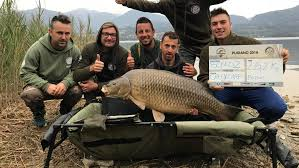carp: (102, 68, 258, 123)
